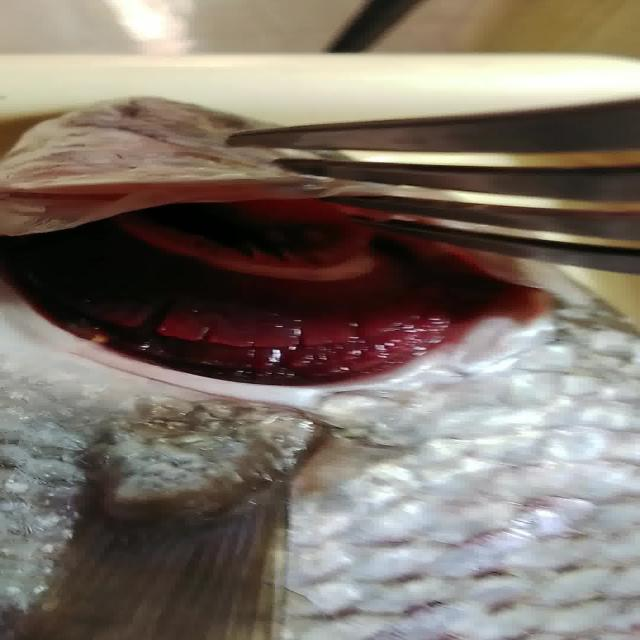Fresh: (8, 172, 538, 408)
